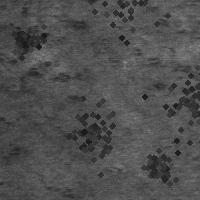rolled-in_scale: (1, 22, 80, 151), (50, 91, 126, 167), (143, 47, 200, 145), (71, 0, 173, 51), (121, 41, 195, 93), (0, 14, 45, 62), (133, 142, 179, 188)
